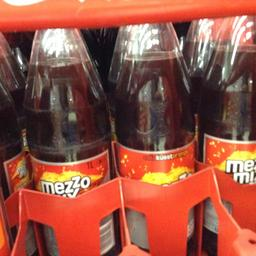soda: (22, 28, 116, 254), (112, 23, 194, 250), (196, 17, 252, 248)
